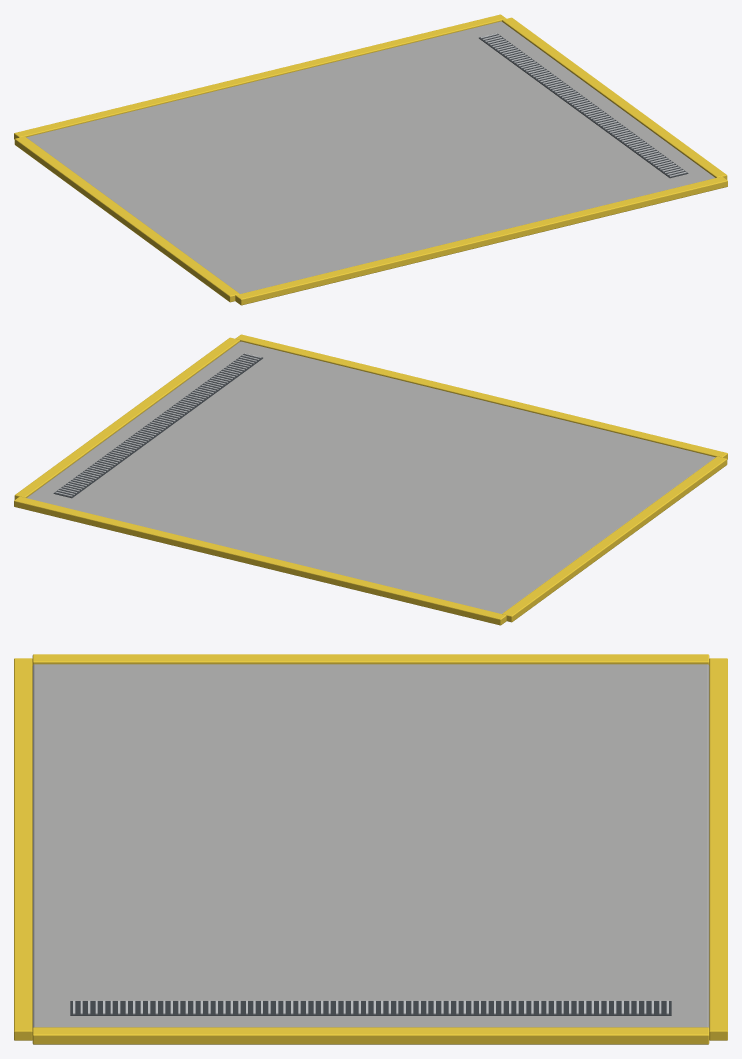
The model's file is Env_WashBay.fbx.
3 views of the same model, one above another, from view 1: azimuth 30°, elevation 25°; view 2: azimuth 150°, elevation 25°; view 3: azimuth 270°, elevation 25° (orthographic). The views are drawn at different scales.
Visible parts, largest first — view 1: Env_Bay_Pad, Env_Bay_CurbS, Env_Bay_CurbN, Env_Bay_CurbW, Env_Bay_Drain, Env_Bay_GrateBars, Env_Bay_CurbE; view 2: Env_Bay_Pad, Env_Bay_CurbN, Env_Bay_CurbS, Env_Bay_CurbW, Env_Bay_Drain, Env_Bay_GrateBars, Env_Bay_CurbE; view 3: Env_Bay_Pad, Env_Bay_CurbE, Env_Bay_CurbW, Env_Bay_Drain, Env_Bay_CurbN, Env_Bay_CurbS, Env_Bay_GrateBars.
Boxes of the visible parts, <box> form: Env_Bay_Pad: <box>26,21,714,293</box>; Env_Bay_CurbS: <box>235,176,727,305</box>; Env_Bay_CurbN: <box>14,14,506,139</box>; Env_Bay_CurbW: <box>14,136,239,302</box>; Env_Bay_Drain: <box>479,33,688,178</box>; Env_Bay_GrateBars: <box>480,33,686,176</box>; Env_Bay_CurbE: <box>502,17,727,179</box>; Env_Bay_Pad: <box>27,341,715,613</box>; Env_Bay_CurbN: <box>14,496,506,625</box>; Env_Bay_CurbS: <box>235,334,727,459</box>; Env_Bay_CurbW: <box>502,456,727,622</box>; Env_Bay_Drain: <box>53,353,262,498</box>; Env_Bay_GrateBars: <box>55,353,261,496</box>; Env_Bay_CurbE: <box>14,337,239,499</box>; Env_Bay_Pad: <box>32,664,709,1027</box>; Env_Bay_CurbE: <box>32,1027,709,1044</box>; Env_Bay_CurbW: <box>32,654,709,665</box>; Env_Bay_Drain: <box>70,1001,671,1015</box>; Env_Bay_CurbN: <box>709,658,727,1040</box>; Env_Bay_CurbS: <box>14,658,32,1040</box>; Env_Bay_GrateBars: <box>73,1000,668,1014</box>.
Size of the model in its own units: 4.8 by 0.061 by 3.8.
